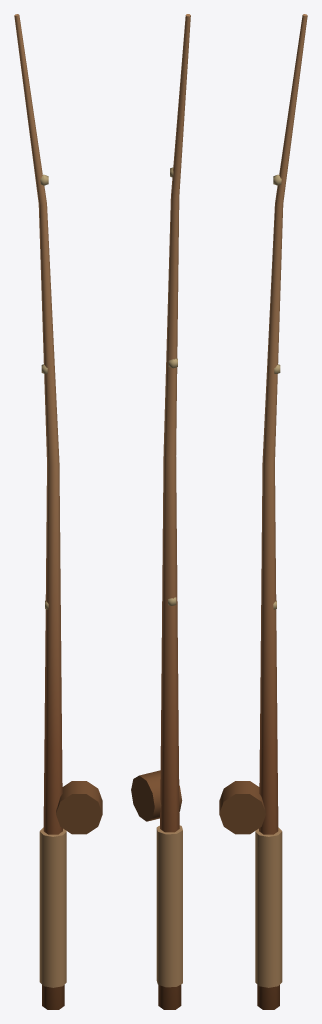
File: fishing_rod.glb
The picture shows the model from 3 angles, left to right: view 1: azimuth 90°, elevation 25°; view 2: azimuth 210°, elevation 25°; view 3: azimuth 270°, elevation 25°; orthographic projection.
Parts seen in each view (by area): view 1: fishing_rod; view 2: fishing_rod; view 3: fishing_rod.
Boxes of the visible parts, x1,y1,x2,y2 form: fishing_rod: [14, 14, 102, 1009]; fishing_rod: [131, 14, 190, 1009]; fishing_rod: [219, 14, 307, 1009].
Bounding box in the file's own units: 0.06 × 2.1 × 0.17.
